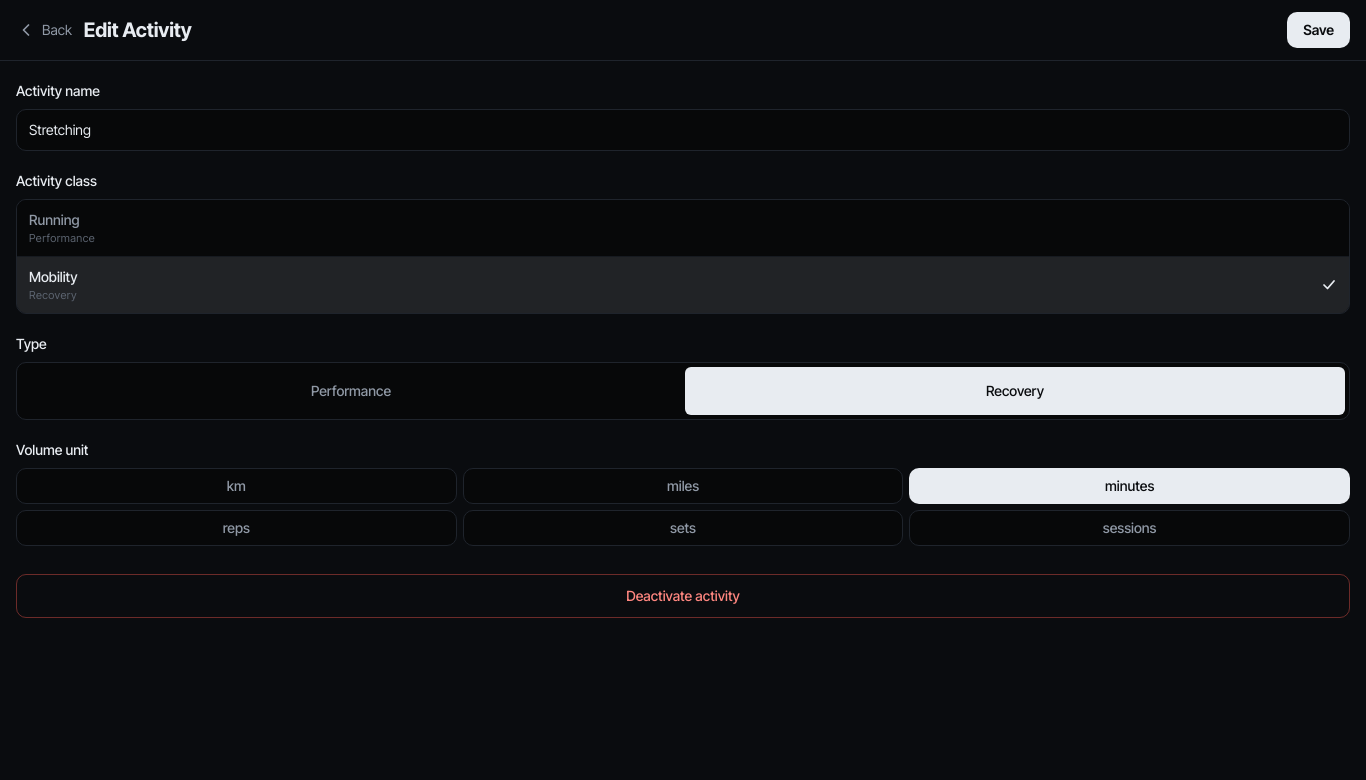
ActivityManagerScreen › uses the two-step deactivate confirm and cancels without mutating
Click the button "Deactivate activity" at (683, 596), box x1=16 y1=574 x2=1350 y2=618
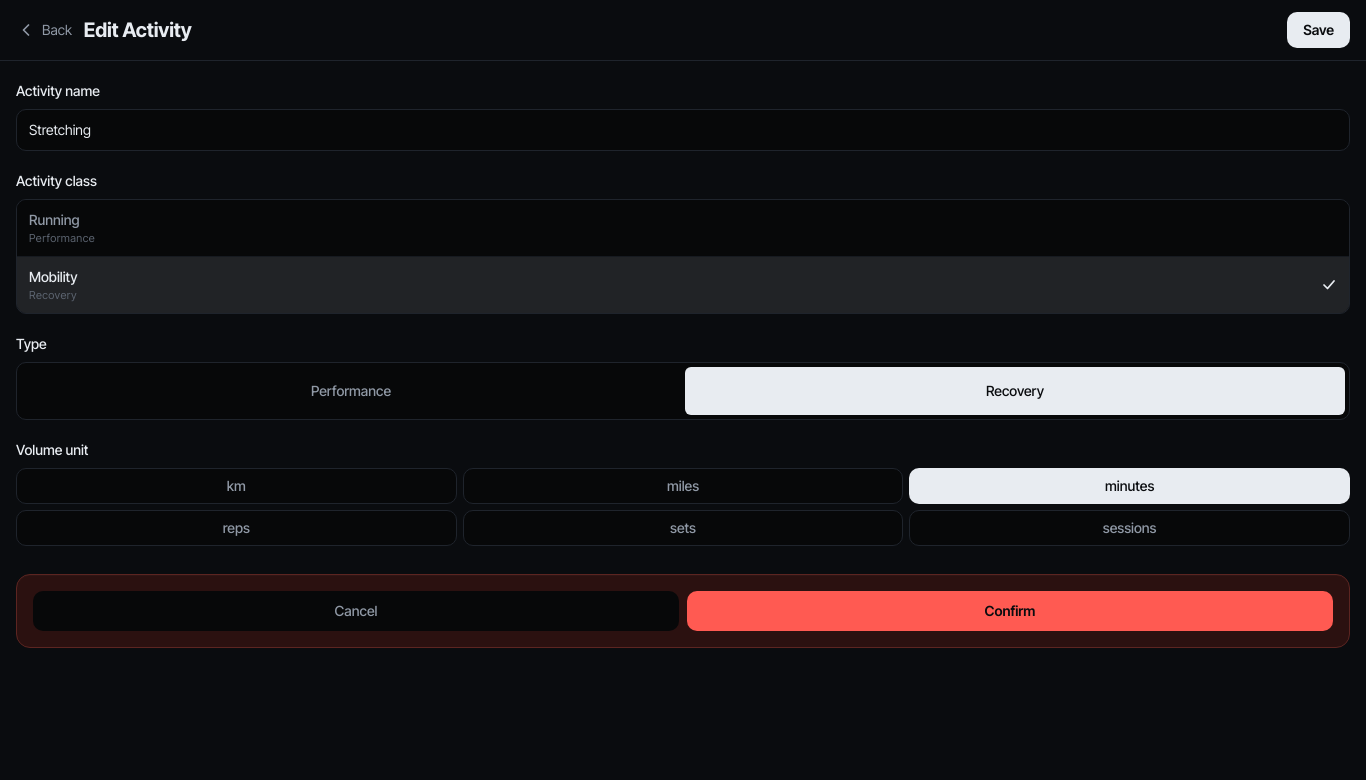
Now the button "Confirm" is shown, box x1=687 y1=591 x2=1333 y2=631
Click the button "Cancel" at (356, 611), box x1=33 y1=591 x2=679 y2=631
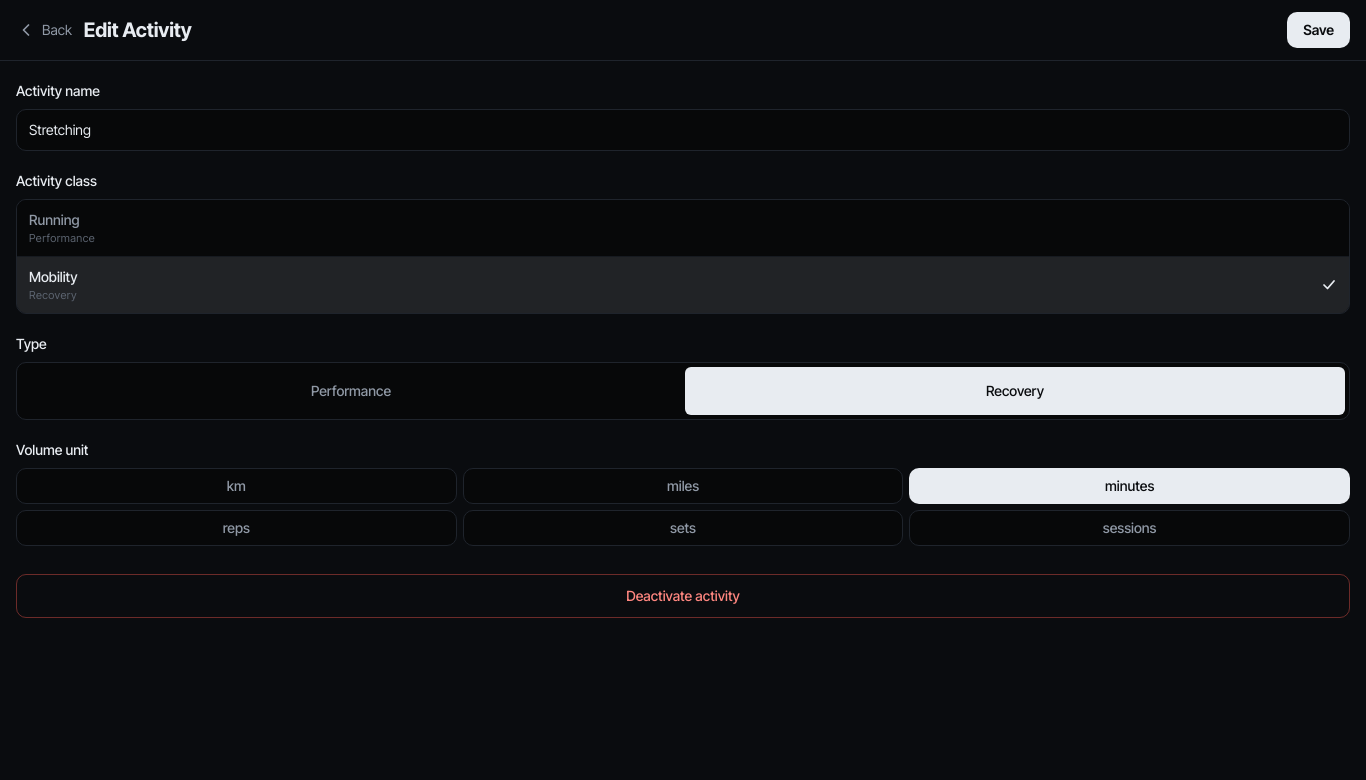
Now the button "Confirm" is gone
